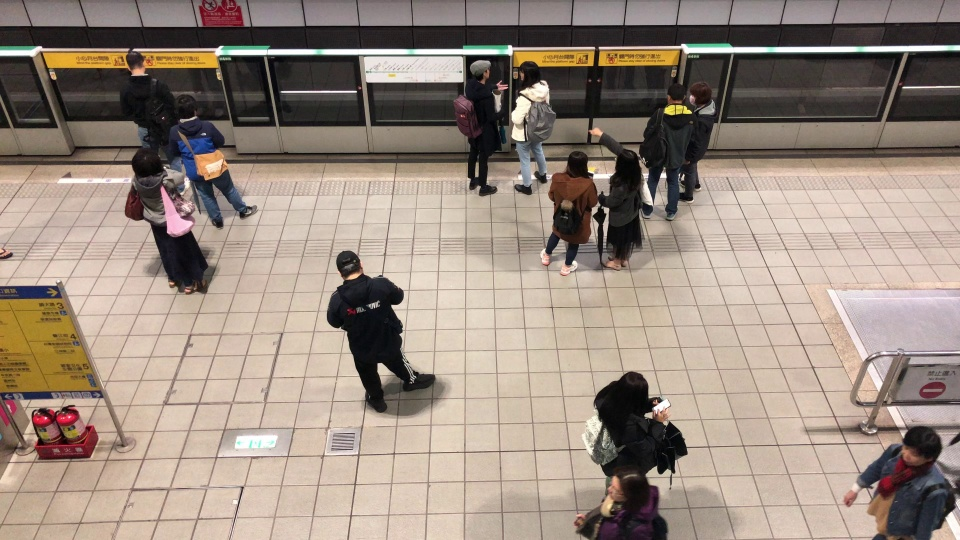person_head: (897, 426, 944, 474), (613, 371, 649, 418), (608, 468, 647, 509), (130, 146, 162, 179), (338, 251, 365, 287), (465, 54, 491, 88), (119, 49, 146, 79), (615, 146, 638, 181), (519, 59, 539, 97), (174, 91, 196, 121), (690, 79, 708, 110), (665, 76, 682, 107), (566, 151, 587, 176)
person_vbox: (326, 250, 436, 413), (840, 423, 955, 540), (130, 143, 215, 293), (168, 92, 259, 228), (118, 50, 191, 196), (593, 372, 671, 486), (587, 124, 644, 273), (571, 465, 670, 540), (539, 148, 597, 271), (463, 60, 508, 197), (510, 60, 548, 195), (646, 67, 680, 217), (682, 79, 713, 201)
